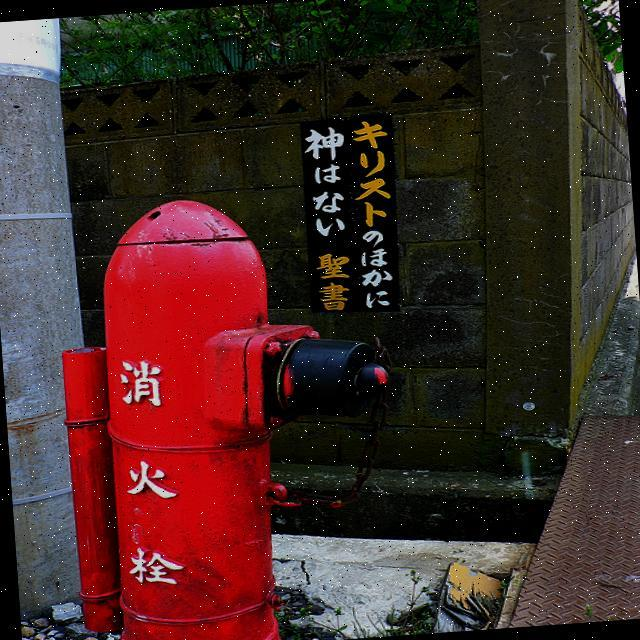fire_hydrant: (53, 184, 407, 640)
